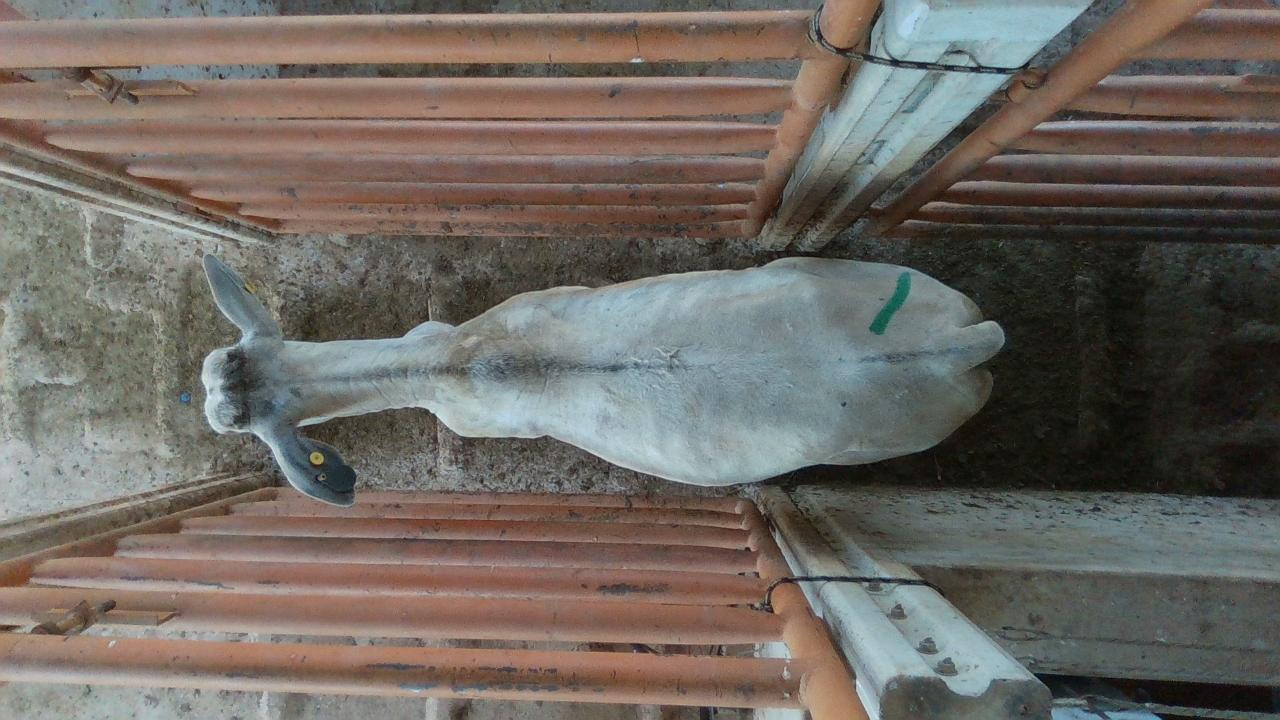cattle: (198, 250, 1006, 506)
